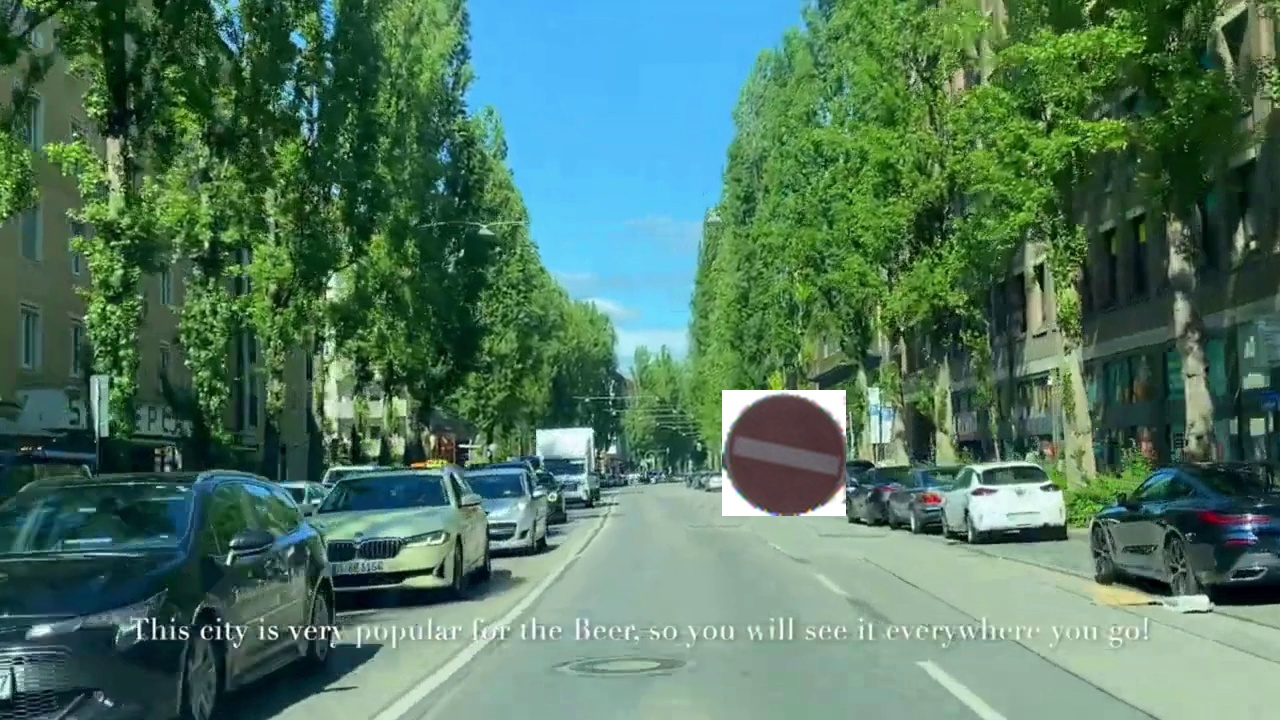No entry: (722, 390, 846, 516)
